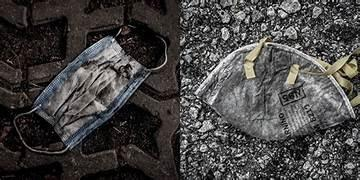Mask: (14, 36, 165, 153), (196, 38, 359, 139)
